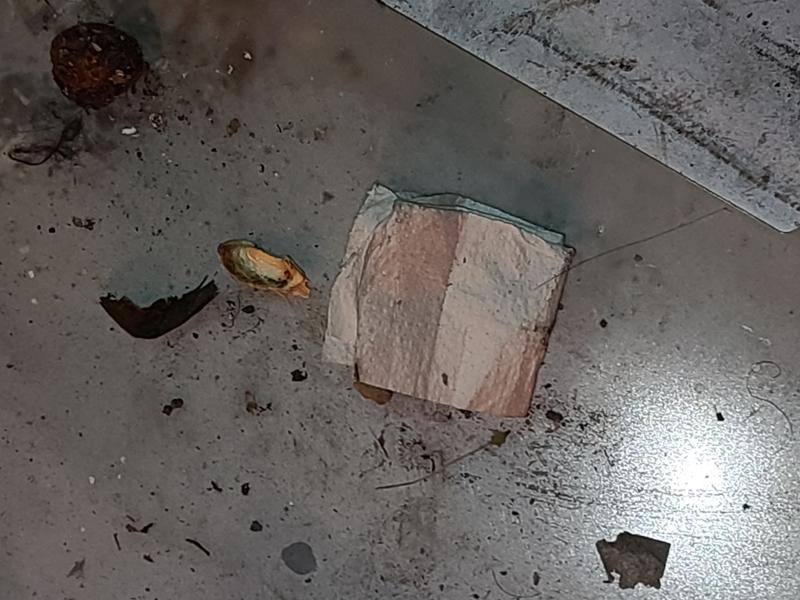papel: (327, 185, 576, 421)
